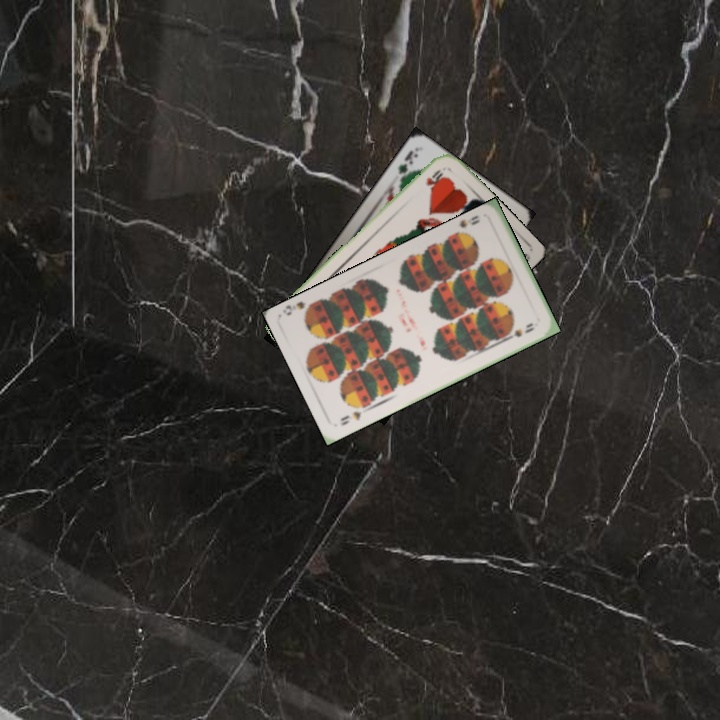GK: (394, 146, 421, 184)
HO: (422, 165, 446, 191)
S9: (450, 215, 482, 237), (336, 407, 364, 428)
